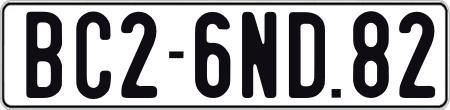2: (120, 10, 156, 100), (398, 10, 433, 100)
6: (192, 10, 232, 98)
8: (351, 10, 387, 99)
B: (24, 10, 64, 102)
C: (76, 11, 111, 99)
D: (289, 9, 325, 96)
N: (239, 9, 277, 100)
